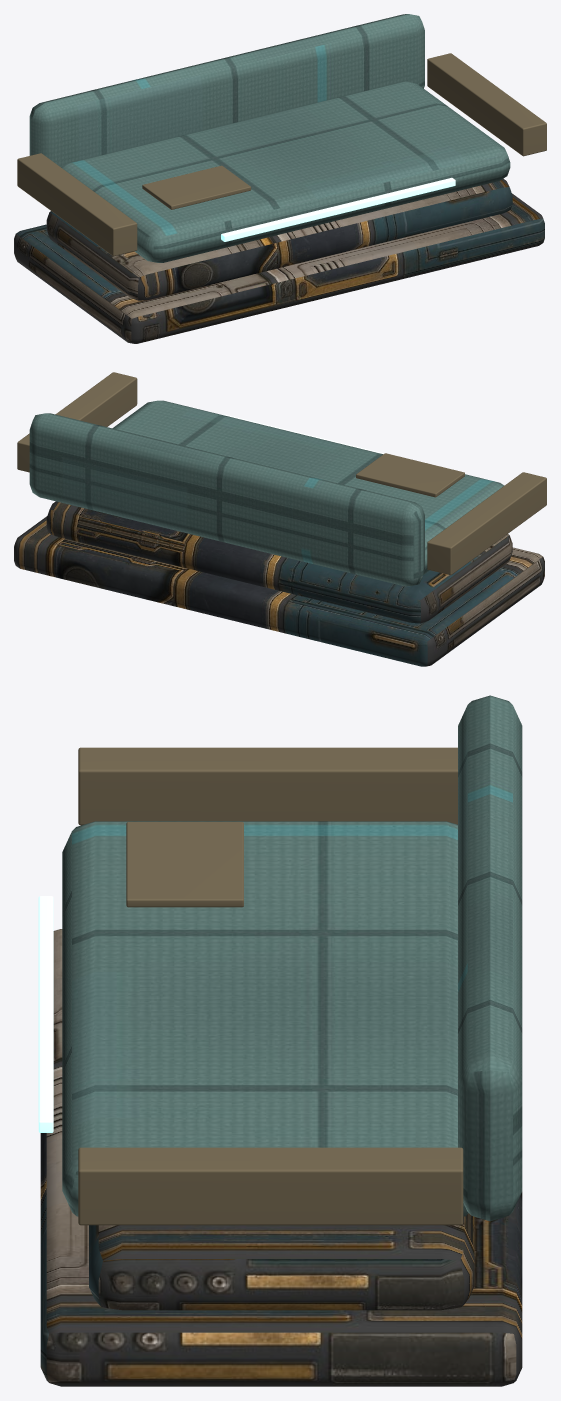
Rendered from hp_room_residential_recovery_bed.glb.
The picture shows the model from 3 angles, top to bottom: view 1: azimuth 30°, elevation 25°; view 2: azimuth 150°, elevation 25°; view 3: azimuth 270°, elevation 25°; orthographic projection. The views are drawn at different scales.
Visible parts, largest first — view 1: muted_recovery_mattress, raised_head_panel, clinical_bed_ground_shadow, low_service_base, left_clinical_rail, right_clinical_rail, blank_family_card_tray, bed_cyan_life_strip; view 2: raised_head_panel, clinical_bed_ground_shadow, low_service_base, muted_recovery_mattress, left_clinical_rail, right_clinical_rail, blank_family_card_tray; view 3: muted_recovery_mattress, clinical_bed_ground_shadow, low_service_base, raised_head_panel, right_clinical_rail, left_clinical_rail, blank_family_card_tray, bed_cyan_life_strip.
Part boxes in pixels (<box>): muted_recovery_mattress: <box>61,81,510,262</box>; raised_head_panel: <box>29,14,424,166</box>; clinical_bed_ground_shadow: <box>14,193,544,343</box>; low_service_base: <box>46,178,512,300</box>; left_clinical_rail: <box>17,153,137,256</box>; right_clinical_rail: <box>427,53,546,156</box>; blank_family_card_tray: <box>142,165,251,209</box>; bed_cyan_life_strip: <box>221,177,455,241</box>; raised_head_panel: <box>29,413,424,586</box>; clinical_bed_ground_shadow: <box>14,516,544,666</box>; low_service_base: <box>46,501,512,623</box>; muted_recovery_mattress: <box>112,400,504,574</box>; left_clinical_rail: <box>427,472,546,575</box>; right_clinical_rail: <box>17,372,137,472</box>; blank_family_card_tray: <box>356,453,464,497</box>; muted_recovery_mattress: <box>62,821,468,1216</box>; clinical_bed_ground_shadow: <box>40,929,522,1386</box>; low_service_base: <box>89,1213,474,1310</box>; raised_head_panel: <box>458,695,522,1221</box>; right_clinical_rail: <box>78,1147,463,1225</box>; left_clinical_rail: <box>78,747,457,825</box>; blank_family_card_tray: <box>126,822,243,907</box>; bed_cyan_life_strip: <box>38,896,53,1132</box>.
Bounding box in the file's own units: 2.26 × 0.7836 × 1.09.
Materials: 5 (3 with a texture image).
